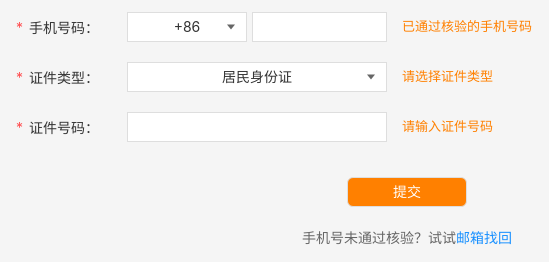
Test case: AccountInfoStep 组件测试 › 验证逻辑 › 应该验证手机号格式
The image size is (549, 262).
Type "123" into the field next to "+86" at (320, 27), box [252,12,387,42]
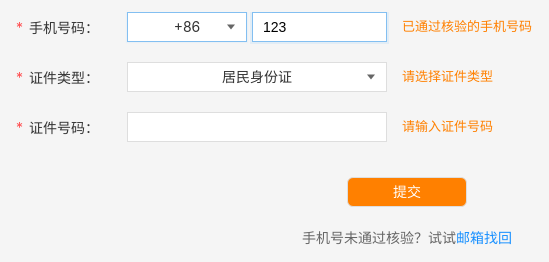
Click the button "提交" at (407, 192), box [347,177,467,207]
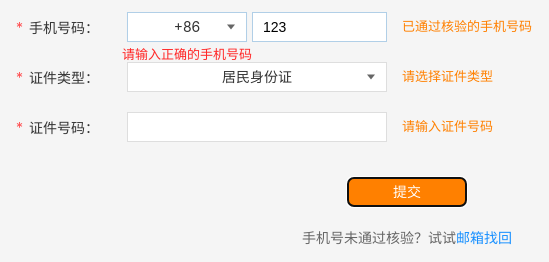
Expected: the text "请输入正确的手机号码" is shown, [122,44,252,64]
